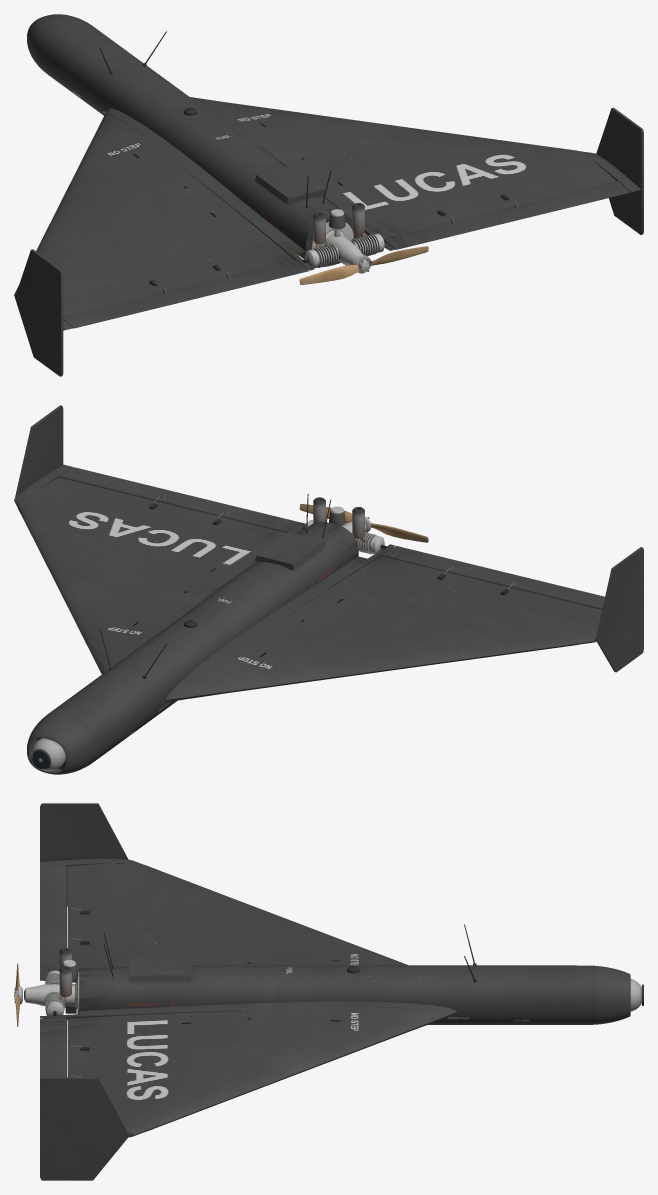
File: d_uav.glb
The picture shows the model from 3 angles, top to bottom: view 1: azimuth 30°, elevation 25°; view 2: azimuth 150°, elevation 25°; view 3: azimuth 270°, elevation 25°; orthographic projection. The views are drawn at different scales.
Visible parts, largest first — view 1: wing, body, fin_l, elv_r, elv_l, fin_r, engine, l_ant, prop, l_nose; view 2: wing, body, fin_l, elv_r, elv_l, l_nose, fin_r, l_ant, engine, l_ball, prop; view 3: wing, body, fin_r, fin_l, elv_l, engine, l_nose, l_ant, elv_r.
Part boxes in pixels (left/top/right/bottom): wing: left=14, top=97, right=641, bottom=330; body: left=37, top=20, right=358, bottom=266; fin_l: left=15, top=249, right=63, bottom=376; elv_r: left=383, top=181, right=630, bottom=249; elv_l: left=63, top=260, right=308, bottom=328; fin_r: left=596, top=107, right=643, bottom=234; engine: left=303, top=203, right=386, bottom=268; l_ant: left=99, top=31, right=331, bottom=208; prop: left=299, top=246, right=428, bottom=284; l_nose: left=27, top=14, right=83, bottom=68; wing: left=14, top=464, right=601, bottom=701; body: left=37, top=521, right=358, bottom=764; fin_l: left=596, top=547, right=643, bottom=672; elv_r: left=60, top=467, right=306, bottom=533; elv_l: left=382, top=546, right=604, bottom=609; l_nose: left=27, top=714, right=94, bottom=774; fin_r: left=15, top=405, right=63, bottom=497; l_ant: left=99, top=494, right=330, bottom=678; engine: left=303, top=497, right=386, bottom=554; l_ball: left=31, top=738, right=65, bottom=771; prop: left=299, top=504, right=428, bottom=542; wing: left=40, top=858, right=456, bottom=1137; body: left=77, top=965, right=594, bottom=1024; fin_r: left=40, top=1077, right=129, bottom=1180; fin_l: left=40, top=803, right=128, bottom=906; elv_l: left=40, top=865, right=66, bottom=977; engine: left=24, top=948, right=77, bottom=1015; l_nose: left=593, top=965, right=630, bottom=1024; l_ant: left=103, top=924, right=476, bottom=1019; elv_r: left=40, top=1017, right=66, bottom=1079.
Bounding box in the file's own units: 3.58 × 0.6386 × 3.47.
4 materials, 4 textured.
